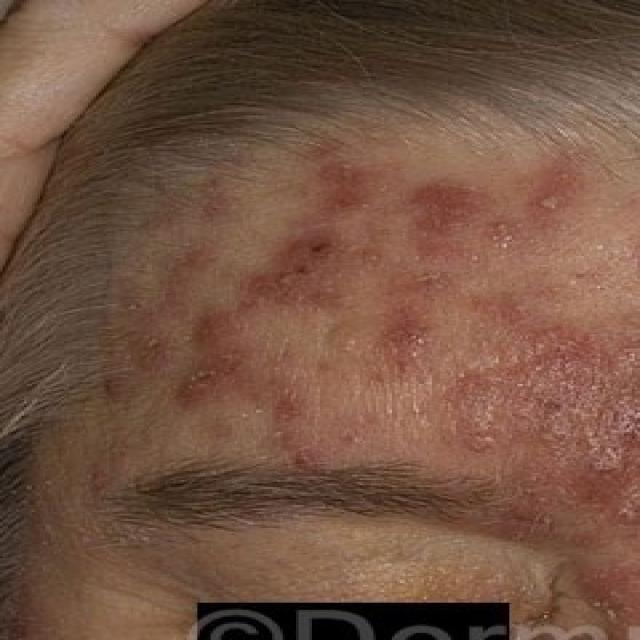Rosacea: (206, 162, 634, 476)
